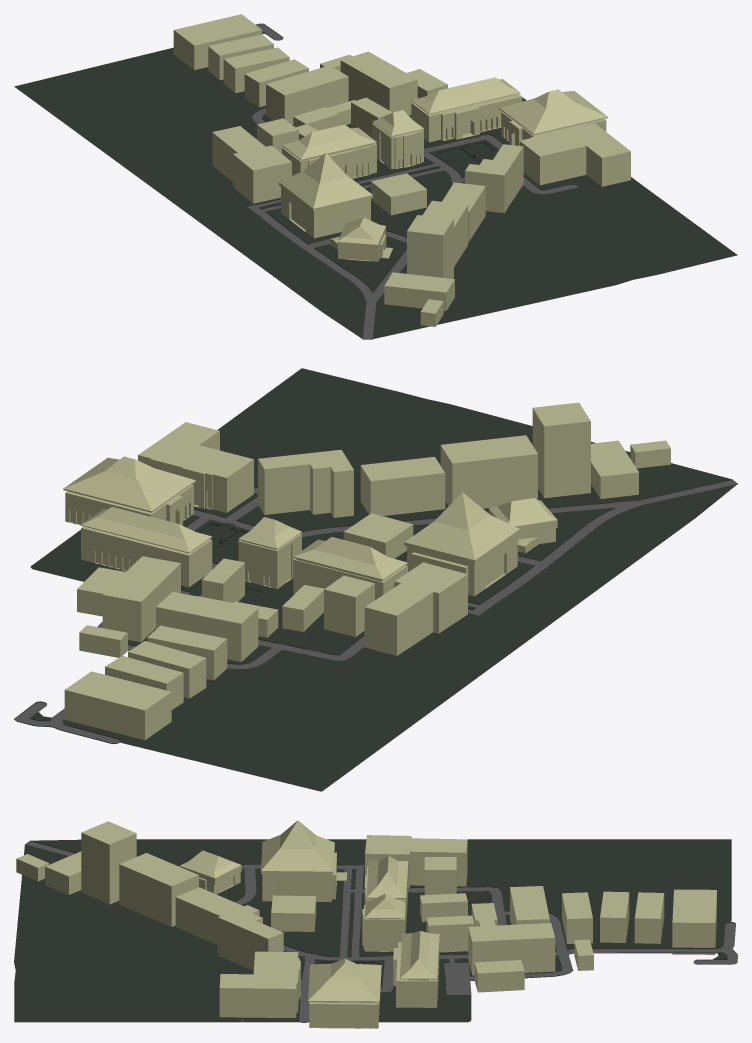
Rendered from kampus1v2.glb.
3 views of the same model, one above another, from view 1: azimuth 30°, elevation 25°; view 2: azimuth 150°, elevation 25°; view 3: azimuth 270°, elevation 25° (orthographic). The views are drawn at different scales.
Parts seen in each view (by area): view 1: walkable, building.011, building.003, building.001, building.016, building.002, building.013, building.020, building.018, building.007, building.010, building.026 (+14 smaller); view 2: walkable, building.003, building.016, building.001, building.002, building.008, building.011, building.010, building.026, building.007, building.009, building.018 (+16 smaller); view 3: walkable, building.003, building.002, building.011, building.008, building.018, building.007, building.001, building.016, building.010, building.026, building.009 (+16 smaller).
Boxes of the visible parts, left/top/right/bottom form: walkable: left=14, top=23, right=737, bottom=339; building.011: left=519, top=123, right=630, bottom=186; building.003: left=279, top=153, right=372, bottom=238; building.001: left=411, top=77, right=522, bottom=142; building.016: left=212, top=126, right=291, bottom=203; building.002: left=499, top=89, right=607, bottom=145; building.013: left=282, top=124, right=376, bottom=178; building.020: left=266, top=65, right=348, bottom=124; building.018: left=340, top=51, right=417, bottom=115; building.007: left=407, top=215, right=453, bottom=278; building.010: left=465, top=144, right=523, bottom=213; building.026: left=173, top=14, right=262, bottom=70; walkable: left=14, top=368, right=737, bottom=791; building.003: left=404, top=492, right=519, bottom=596; building.016: left=364, top=562, right=467, bottom=655; building.001: left=81, top=507, right=212, bottom=587; building.002: left=63, top=456, right=195, bottom=525; building.008: left=440, top=435, right=537, bottom=508; building.011: left=138, top=422, right=253, bottom=512; building.010: left=258, top=449, right=353, bottom=517; building.026: left=64, top=671, right=171, bottom=740; building.007: left=532, top=402, right=590, bottom=498; building.009: left=360, top=456, right=445, bottom=515; building.018: left=102, top=556, right=180, bottom=642; walkable: left=14, top=839, right=737, bottom=1022; building.003: left=261, top=820, right=347, bottom=901; building.002: left=308, top=958, right=381, bottom=1028; building.011: left=219, top=951, right=300, bottom=1017; building.008: left=119, top=853, right=198, bottom=926; building.018: left=468, top=923, right=555, bottom=975; building.007: left=81, top=821, right=136, bottom=904; building.001: left=393, top=931, right=439, bottom=1007; building.016: left=365, top=835, right=467, bottom=888; building.010: left=217, top=905, right=283, bottom=970; building.026: left=672, top=889, right=716, bottom=954; building.009: left=175, top=887, right=243, bottom=944.
Size of the model in its own units: 707 by 128 by 1131.
